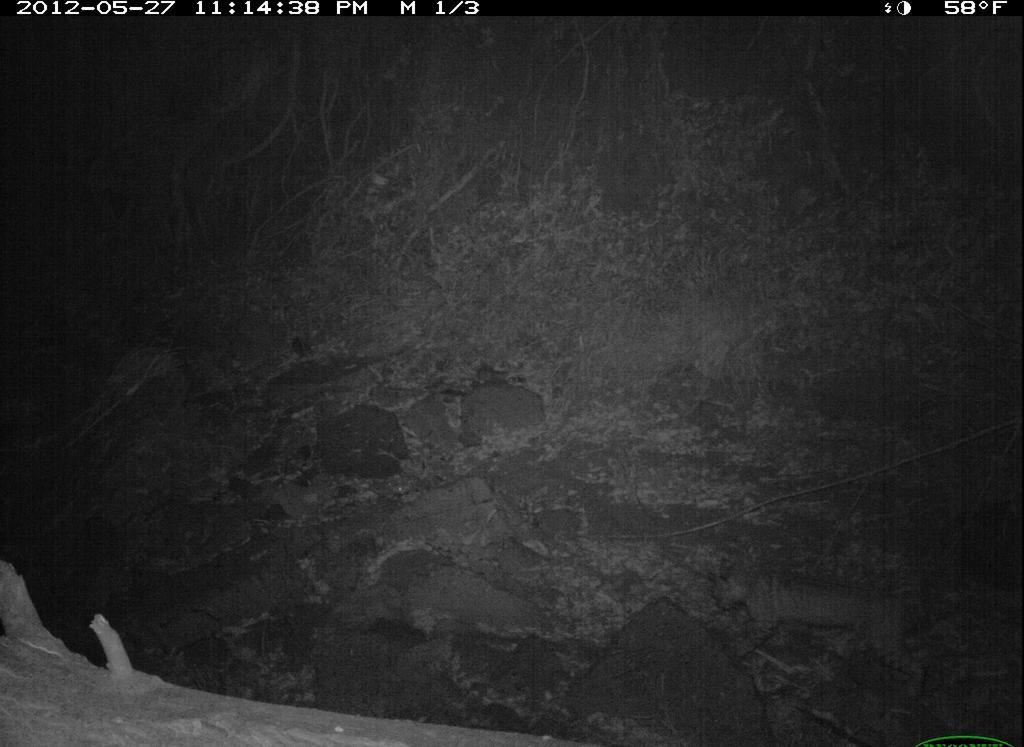bobcat: (701, 553, 934, 705)
